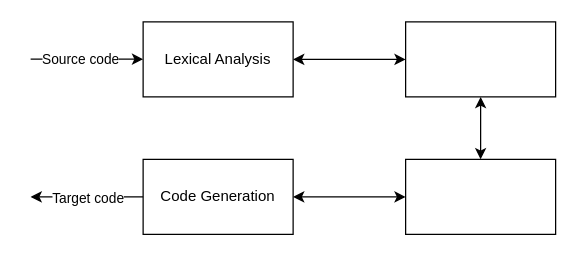
Image size: 578x256. Some labels were removed from this diagram. Here are the shapes that lost their labels. From the top down, the box of each, then its label:
(404, 21, 556, 97): Syntactic Analysis
(404, 158, 556, 234): Semantactic Analysis
